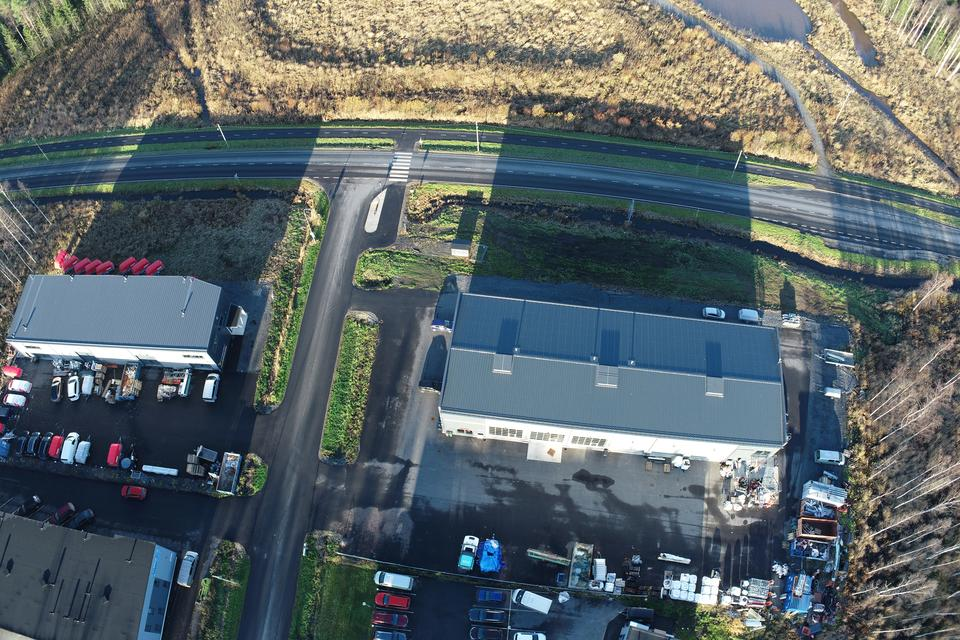intersection: (305, 100, 437, 262), (799, 128, 848, 267)
